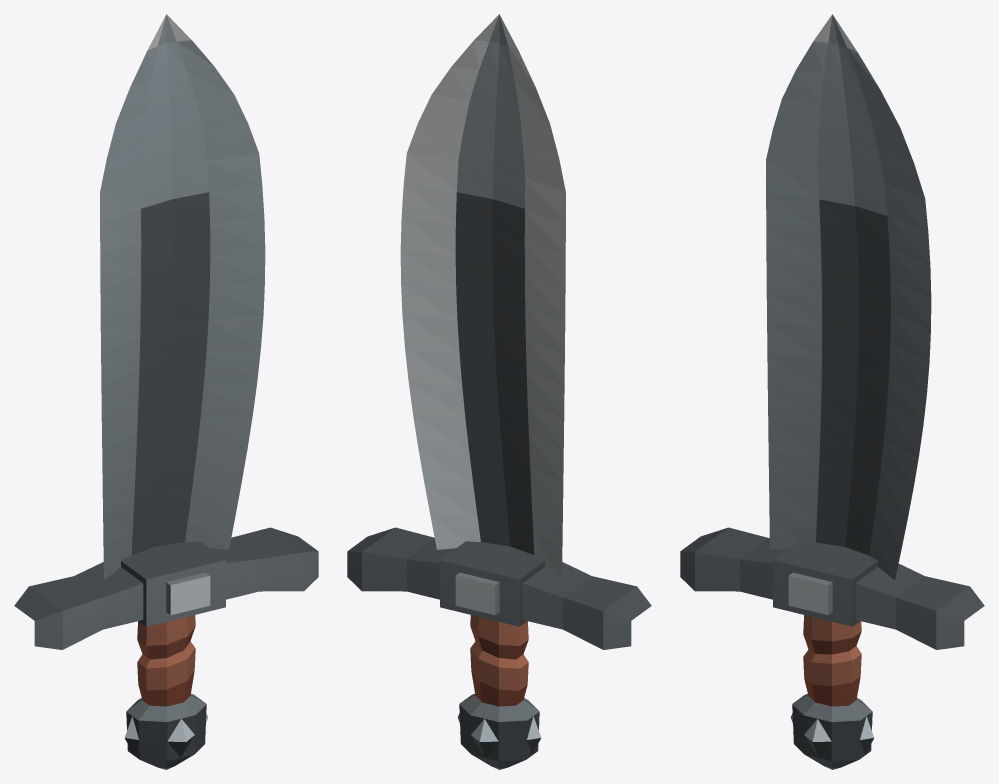
File: source.glb
3 views of the same model, side by side, from view 1: azimuth 30°, elevation 25°; view 2: azimuth 150°, elevation 25°; view 3: azimuth 330°, elevation 25° (orthographic).
Visible parts, largest first — view 1: model; view 2: model; view 3: model.
Boxes of the visible parts, x1,y1,x2,y2 form: model: [14, 14, 318, 769]; model: [347, 14, 651, 769]; model: [680, 14, 984, 769].
Size of the model in its own units: 0.48 by 1.22 by 0.14.
1 material, 1 textured.
